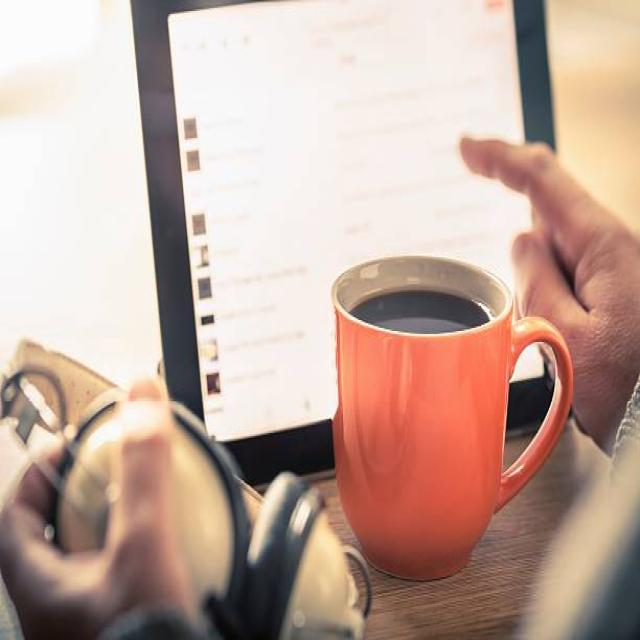Headphone: (0, 335, 374, 640)
